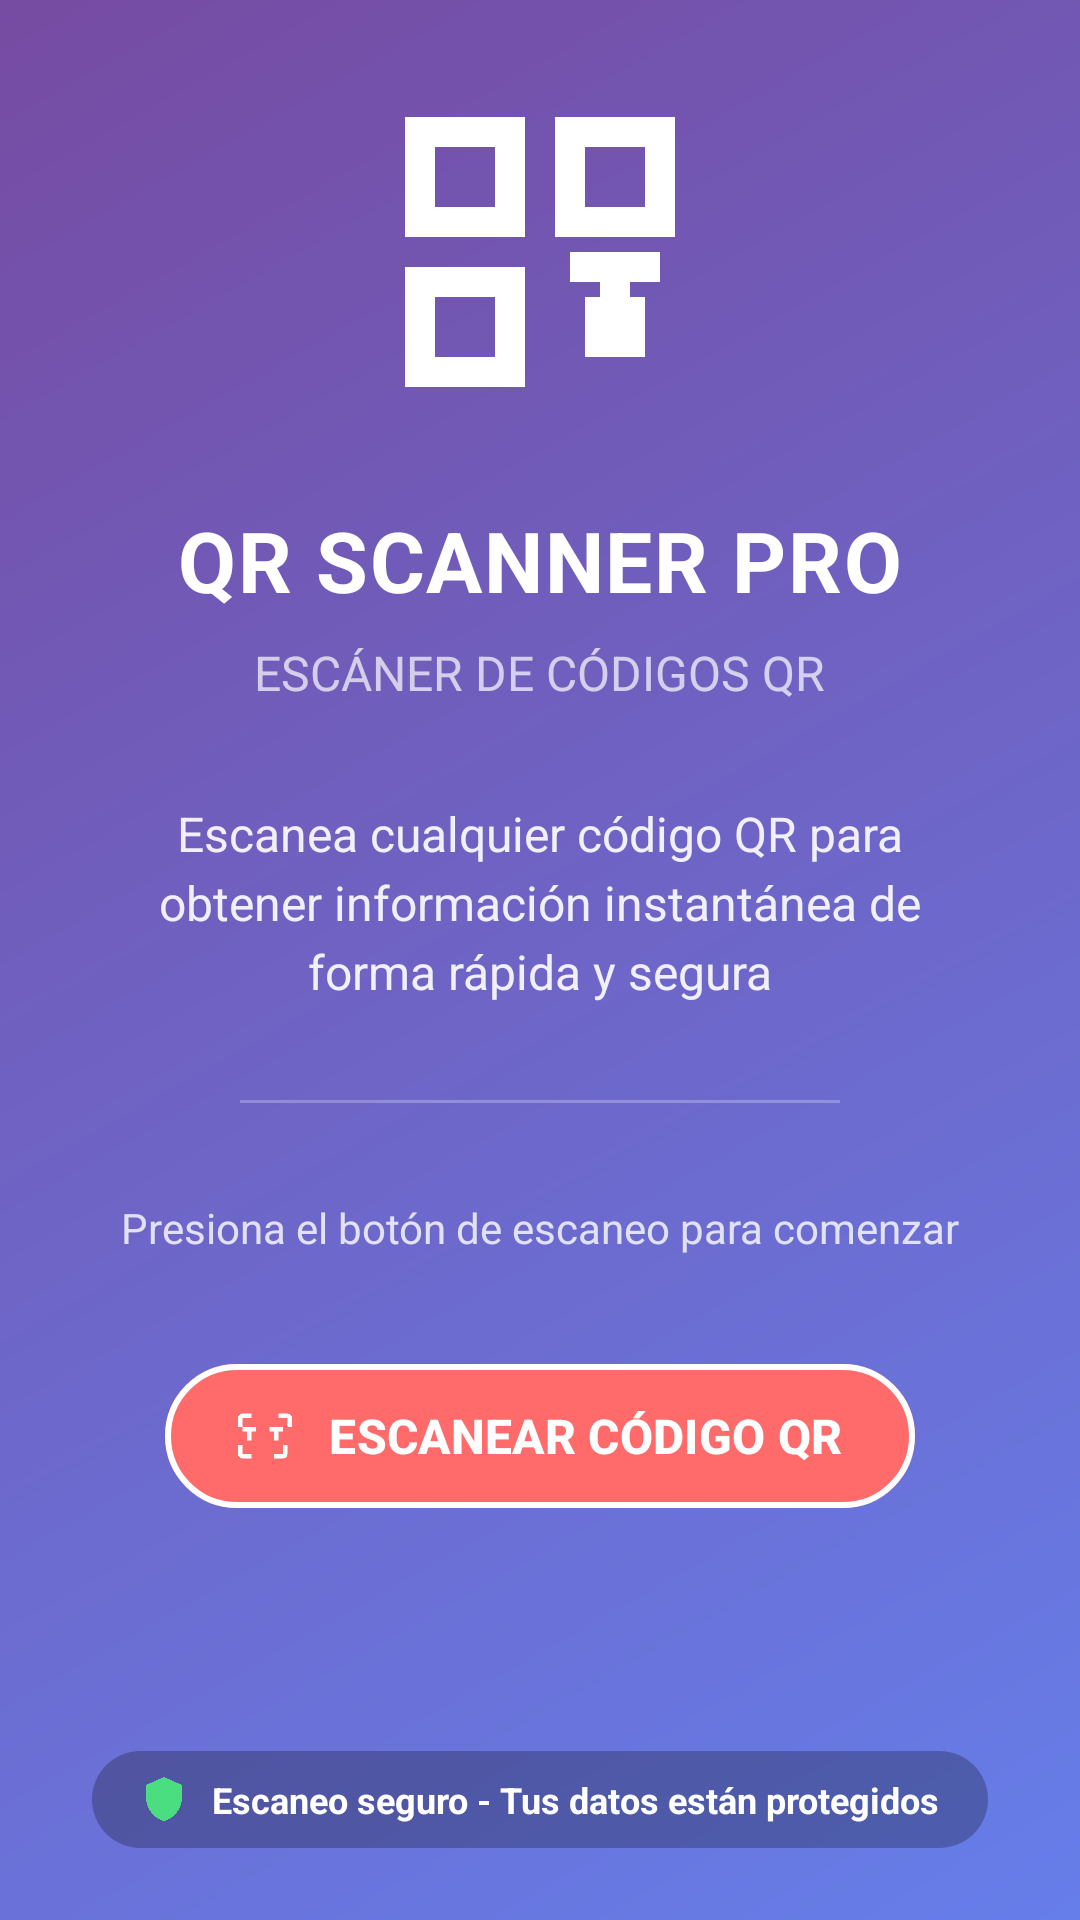

Icon bounding boxes for this 1080*1920 phone screenshot, format (x1, y1, x2, y2):
shield: (146, 1777, 182, 1821)
